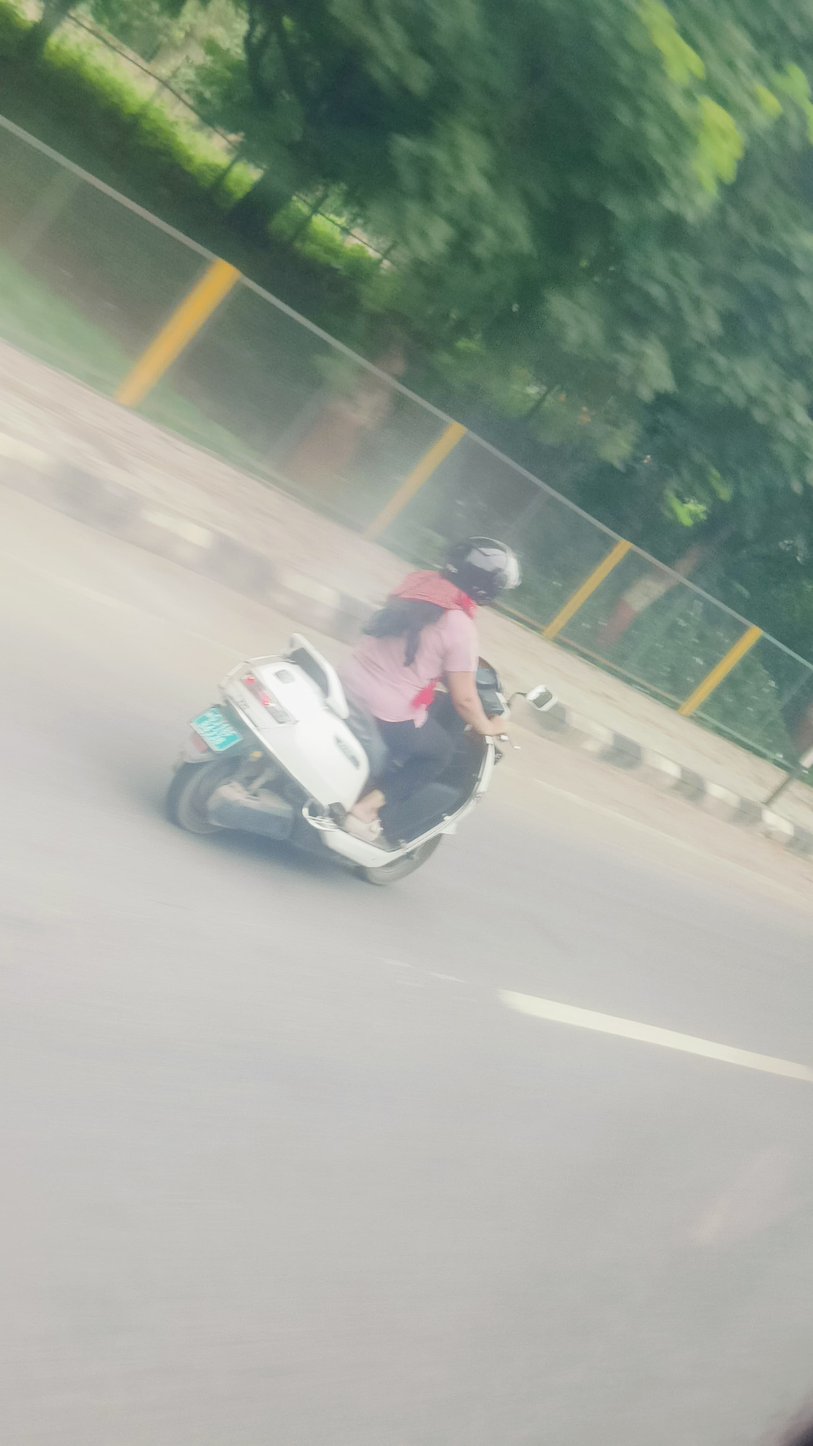BikeWithRider: (147, 524, 567, 898)
Helmet: (425, 528, 533, 611)
